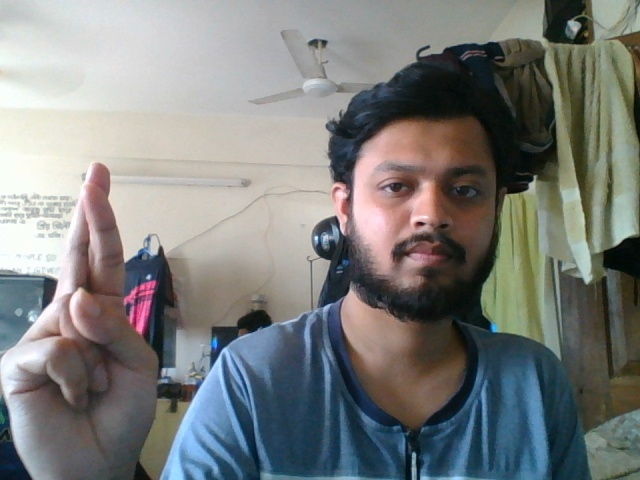r: (3, 152, 162, 480)
